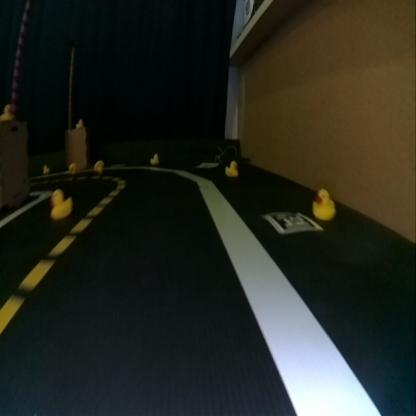Duckie: (312, 187, 336, 219), (50, 189, 72, 218), (0, 102, 14, 120), (225, 160, 238, 176), (93, 160, 103, 172), (150, 152, 159, 164), (75, 118, 82, 126), (68, 163, 74, 170), (43, 164, 48, 172)
QR code: (263, 211, 315, 232)
